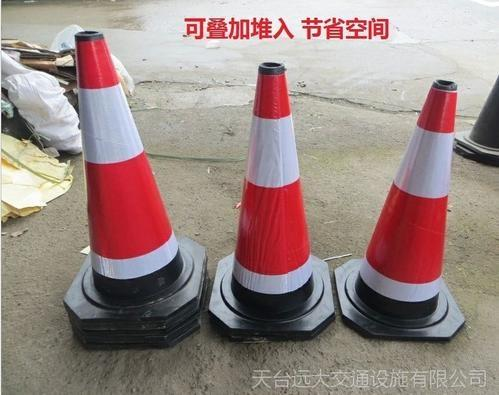cone_barrel: (57, 32, 195, 325), (342, 80, 468, 331), (213, 61, 330, 326), (461, 73, 497, 157)
